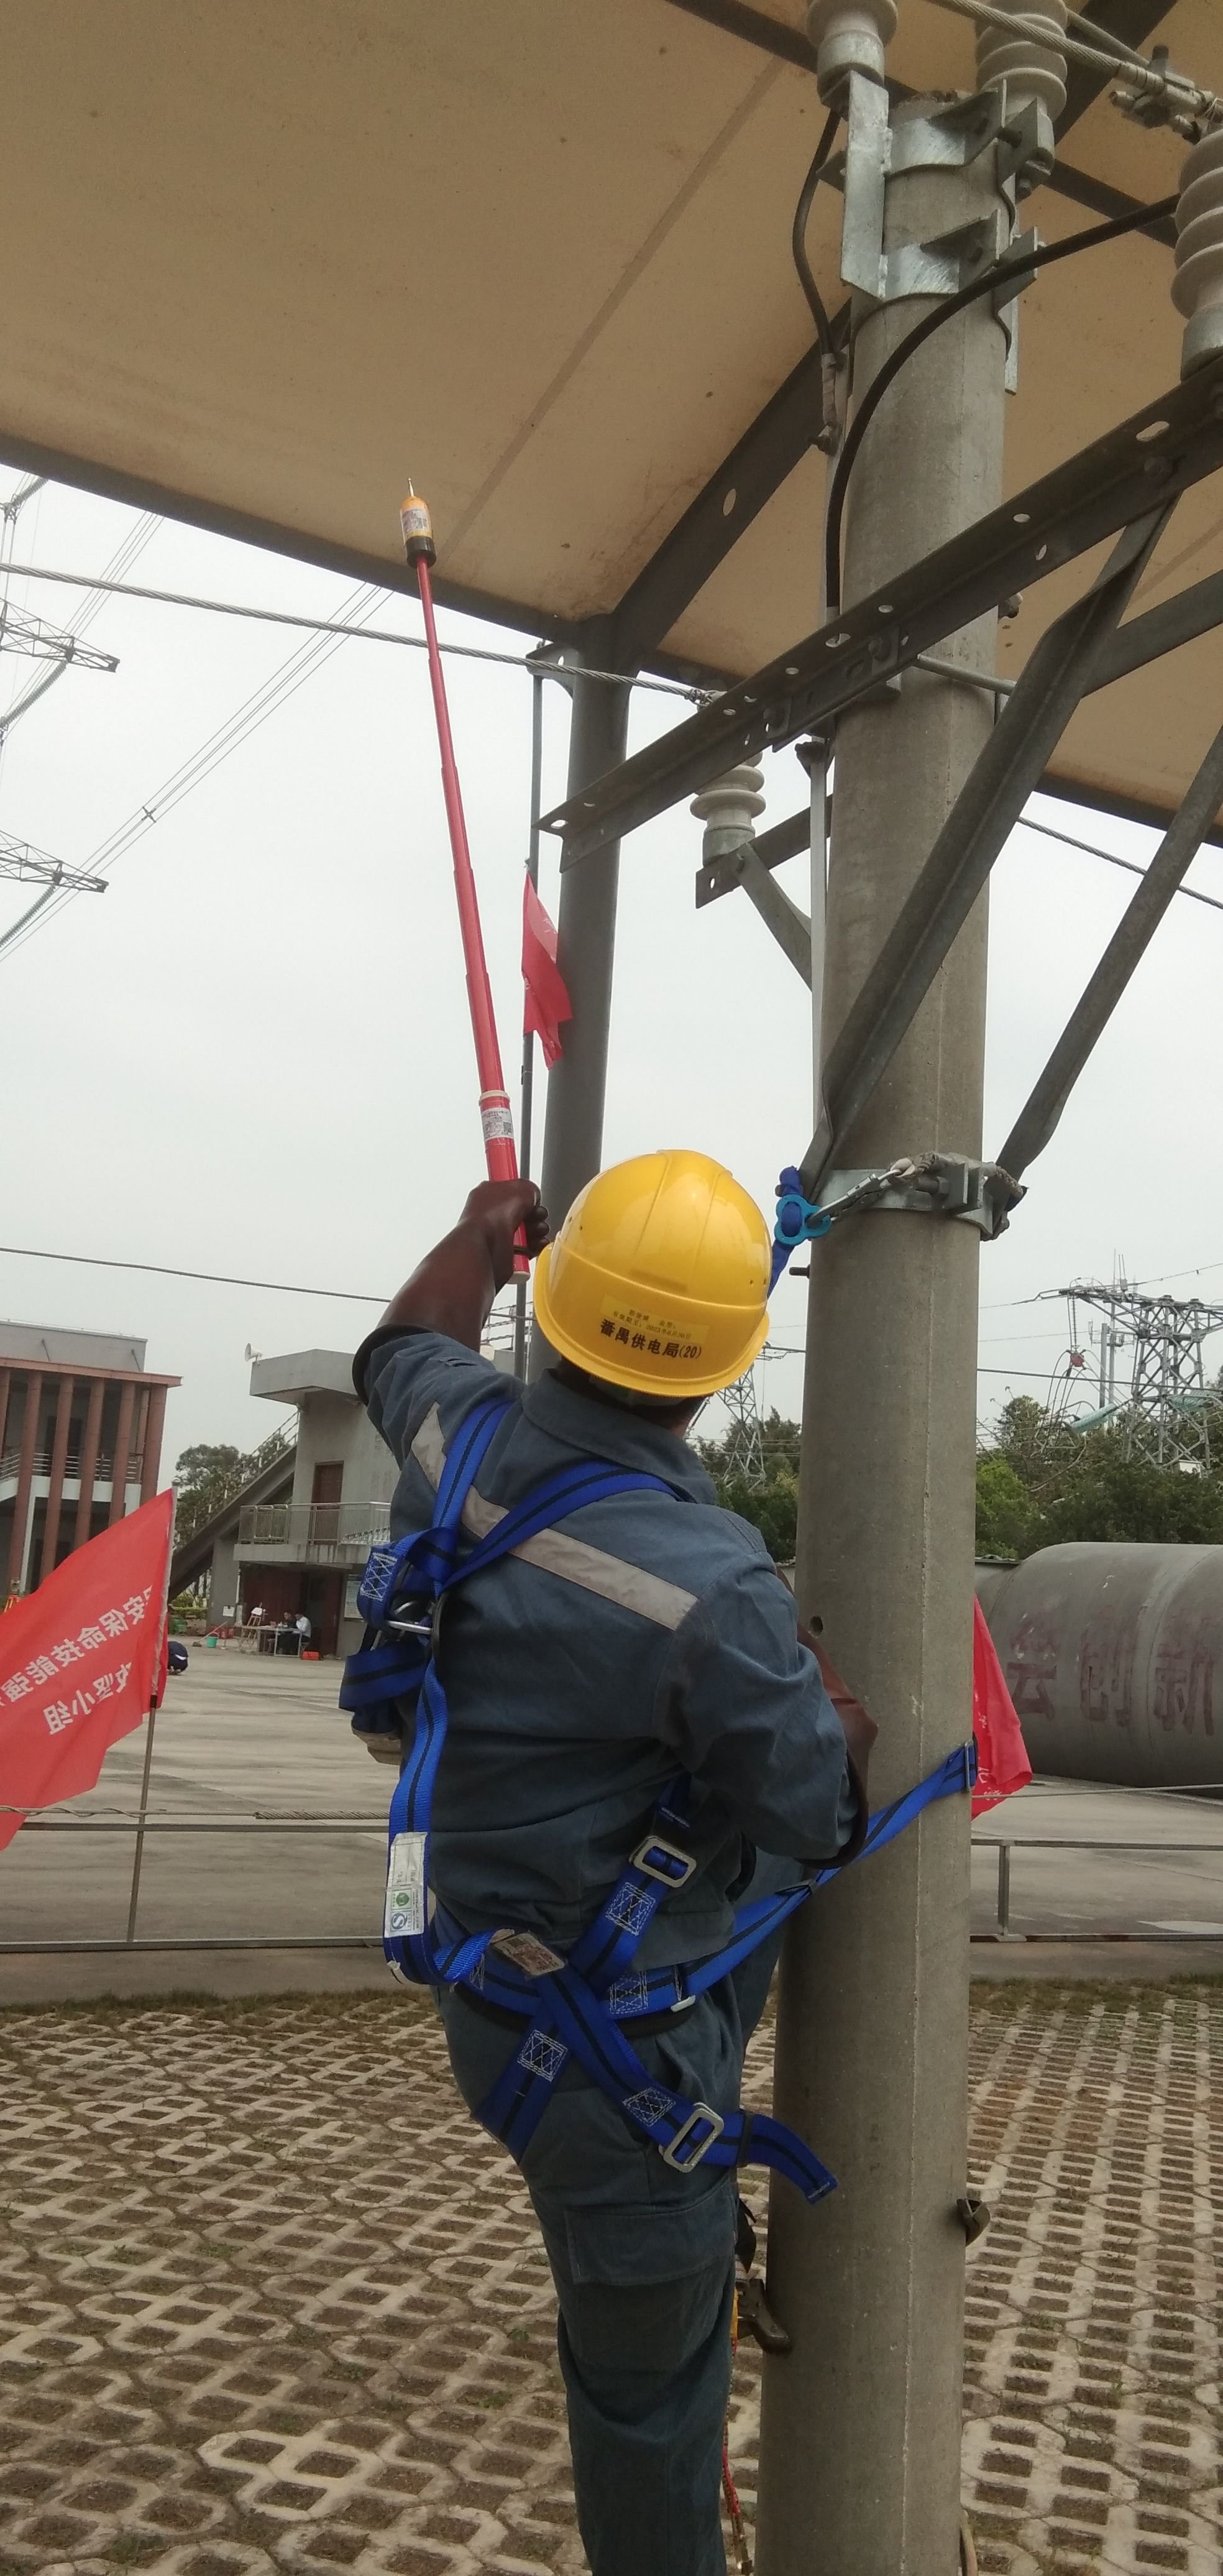downsuit: (455, 2004, 747, 2576)
upsuit: (361, 1395, 832, 1963)
